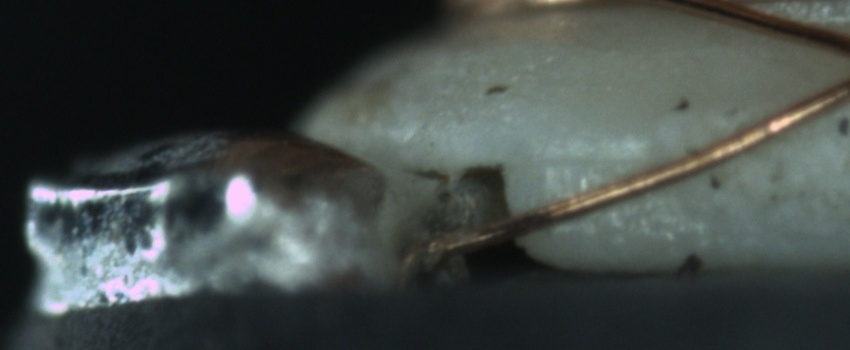DL: (529, 125, 674, 190)
